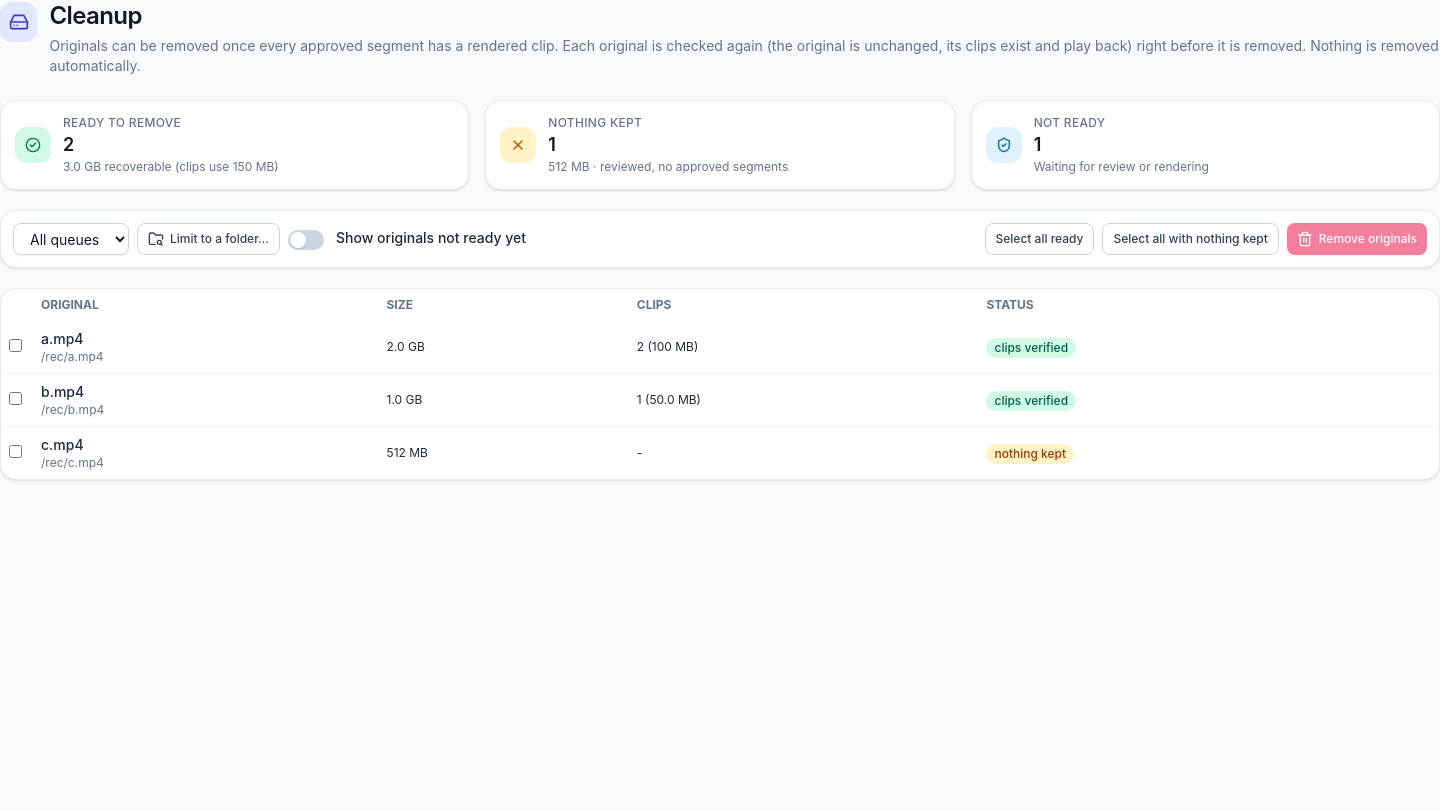
Test case: cleanup › confirms with count and size, without typing DELETE, and sends only the chosen originals
This screenshot has width=1440, height=810.
Expected: the text "a.mp4" is shown, [41,330,84,347]
Step 1. Click the button "Select all ready" → (1039, 239), box [984,223,1094,255]
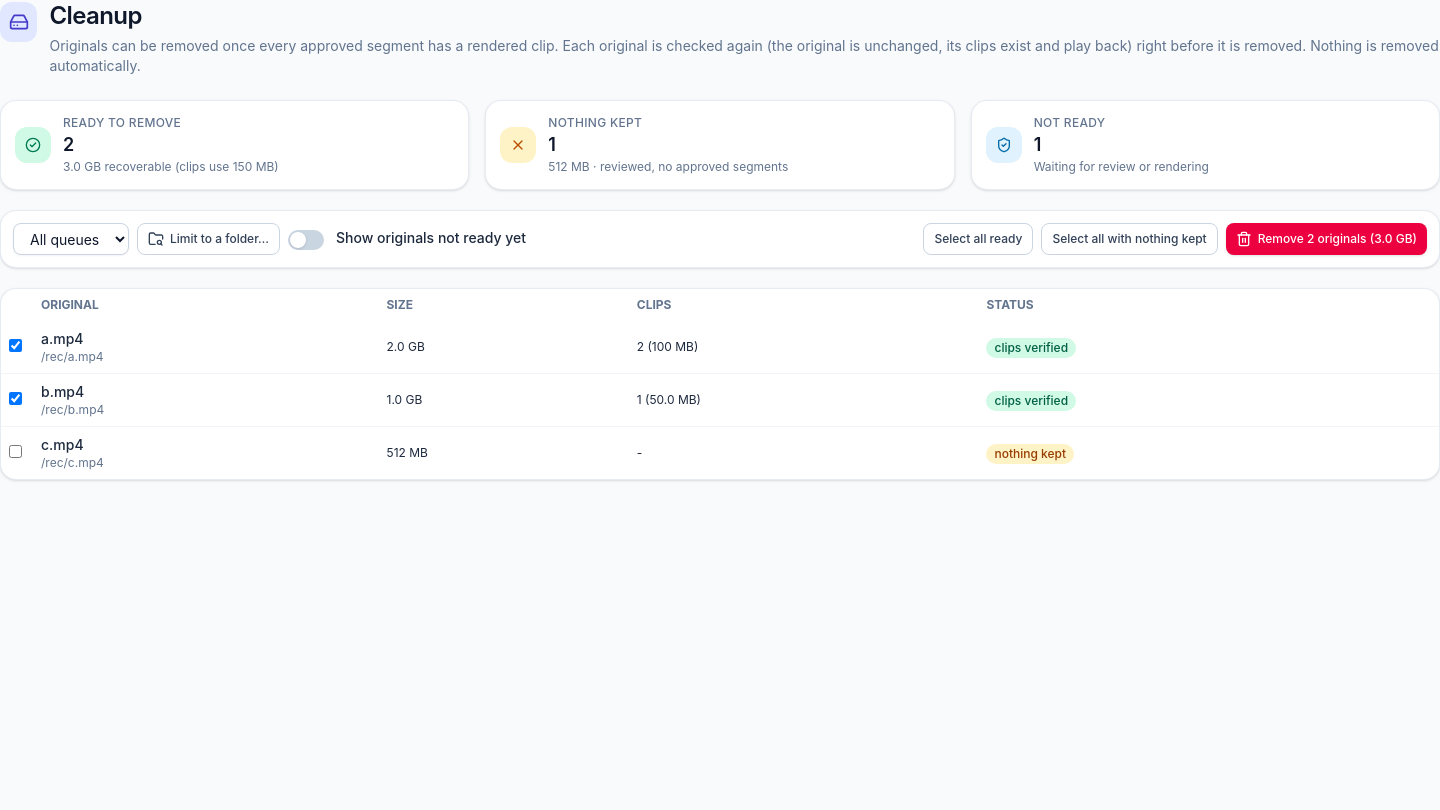
Step 2. Click the button "Remove 2 originals (3.0 GB)" → (1326, 239), box [1226,223,1427,255]
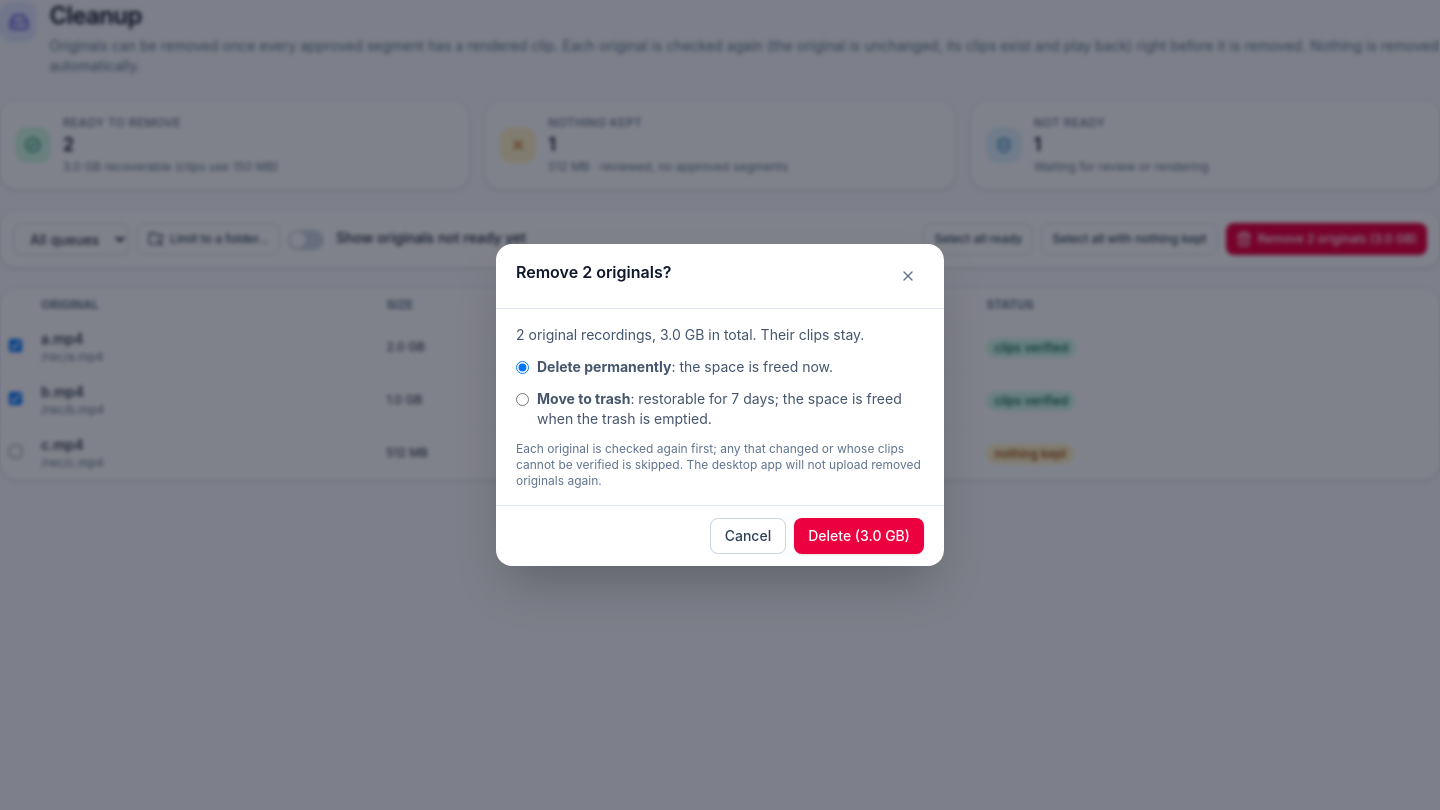
Expected: the text "2 original recordings, 3.0 GB in total. Their clips stay." is shown, [516,325,924,345]
Step 3. Click the button "Delete (3.0 GB)" → (859, 536), box [794,518,924,554]
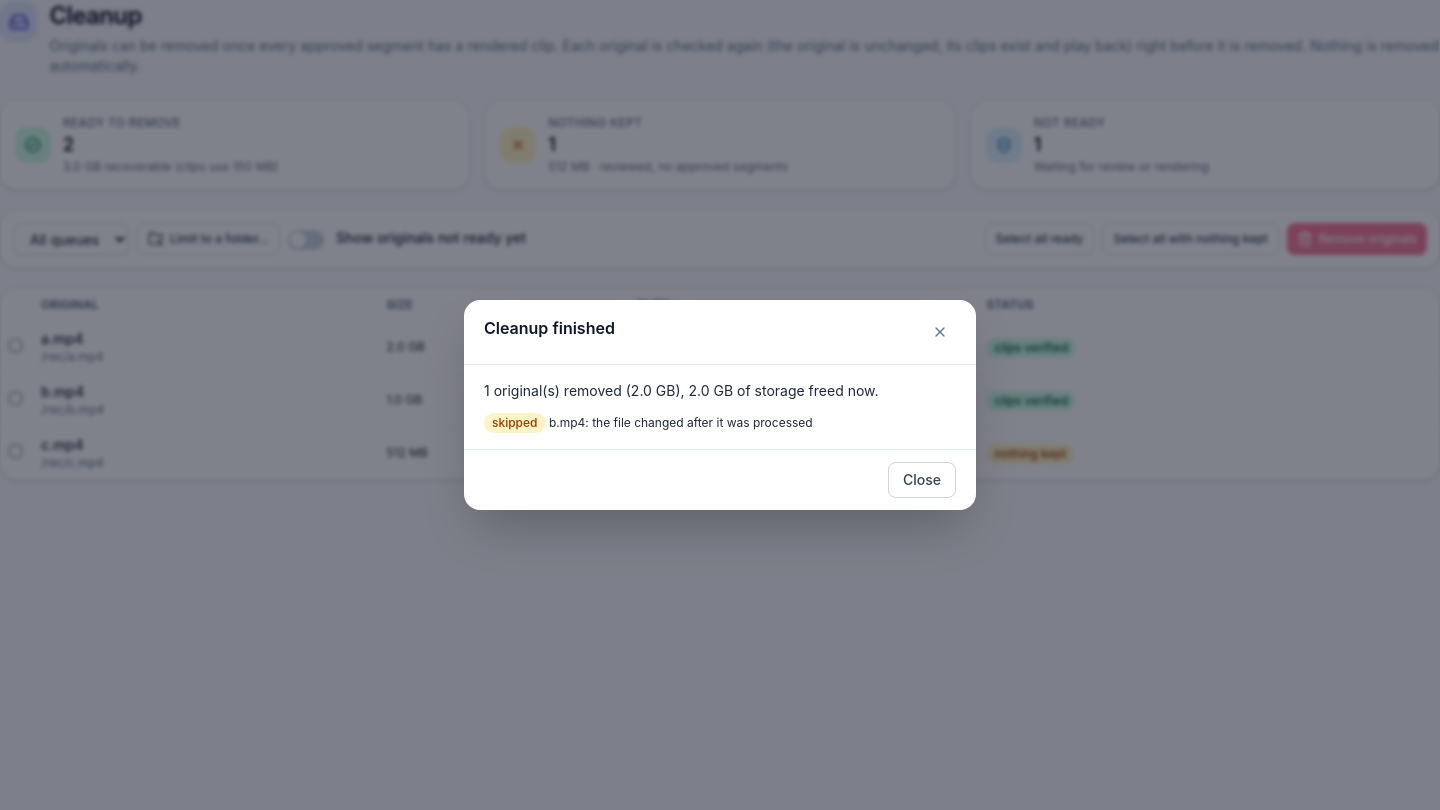
Expected: the list item "skipped b.mp4: the file changed after it was processed" is shown, [484,413,813,433]
